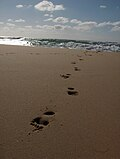human_footprint: (30, 111, 54, 131), (67, 87, 77, 95), (60, 74, 70, 78), (74, 66, 79, 70)
